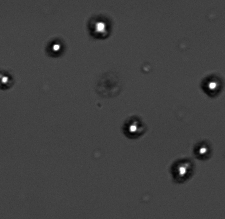Dead Cell: (98, 73, 122, 96)
Living Cell: (87, 13, 112, 40), (170, 156, 194, 181), (123, 115, 146, 139), (201, 72, 222, 97), (45, 37, 66, 57), (193, 141, 212, 159), (1, 70, 14, 92)
